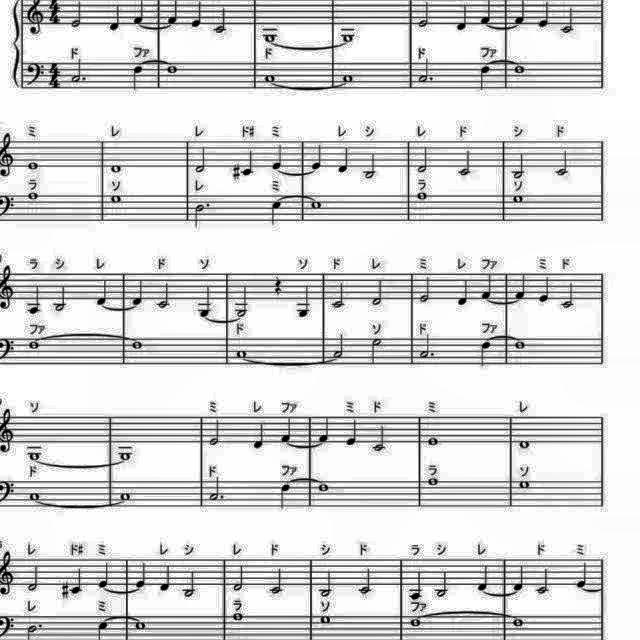Bass-clef: (24, 60, 48, 88)
Diez: (59, 581, 71, 603), (230, 162, 242, 184)
Full-note: (114, 445, 134, 463), (24, 336, 44, 352), (511, 62, 529, 78), (132, 618, 148, 634), (510, 617, 528, 631), (339, 29, 357, 43), (339, 71, 357, 85), (26, 449, 44, 463), (23, 189, 42, 201), (518, 478, 534, 492), (165, 63, 181, 77), (517, 438, 533, 452), (414, 188, 430, 202), (318, 614, 334, 628), (108, 163, 124, 177), (129, 338, 145, 352), (262, 32, 280, 44), (408, 618, 426, 630), (25, 490, 43, 502), (26, 160, 42, 173), (424, 436, 440, 448), (512, 340, 528, 352), (234, 348, 250, 360), (424, 476, 440, 488), (231, 612, 247, 624), (263, 72, 279, 84), (316, 482, 332, 494), (108, 192, 124, 204), (116, 490, 132, 502), (310, 200, 324, 212), (512, 192, 526, 204)
Half-dot: (193, 200, 213, 232), (207, 475, 227, 503), (419, 334, 437, 362), (69, 58, 87, 86), (417, 58, 435, 86)
Half-note: (230, 282, 250, 318), (356, 564, 376, 596), (52, 282, 70, 314), (25, 564, 43, 596), (553, 146, 571, 178), (455, 148, 473, 180), (268, 564, 286, 596), (193, 142, 210, 174), (434, 568, 452, 598), (370, 423, 388, 453), (360, 151, 378, 181), (331, 281, 349, 311), (369, 337, 386, 368), (416, 142, 432, 174), (181, 568, 197, 600), (368, 276, 384, 308), (511, 152, 529, 180), (559, 280, 577, 308), (155, 282, 173, 310), (207, 418, 223, 449), (560, 5, 576, 35), (418, 274, 434, 304), (212, 5, 228, 35), (534, 565, 550, 595), (232, 562, 248, 592), (318, 568, 334, 598), (68, 0, 84, 28), (332, 332, 348, 360), (417, 0, 433, 28)
Quarter-note: (197, 282, 216, 318), (24, 284, 44, 318), (296, 284, 314, 320), (407, 569, 425, 603), (536, 274, 552, 306), (68, 565, 84, 597), (454, 2, 470, 34), (158, 562, 174, 594), (134, 558, 150, 590), (240, 148, 256, 180), (336, 146, 352, 177), (344, 417, 360, 448), (130, 277, 146, 307), (250, 422, 266, 452), (512, 563, 528, 593), (106, 3, 122, 33), (476, 563, 492, 593), (316, 414, 332, 444), (310, 141, 326, 171), (514, 271, 530, 301), (278, 481, 294, 511), (478, 339, 494, 369), (576, 560, 592, 588), (278, 415, 294, 443), (188, 0, 204, 28), (534, 0, 550, 28), (270, 144, 286, 172), (480, 272, 496, 300), (94, 560, 110, 588), (92, 278, 108, 306), (164, 0, 180, 28), (478, 64, 494, 92), (269, 198, 285, 226), (456, 278, 470, 308), (131, 64, 145, 92), (130, 0, 146, 24), (514, 0, 529, 24), (479, 0, 494, 24)
Quarter-rest: (272, 273, 286, 297)
